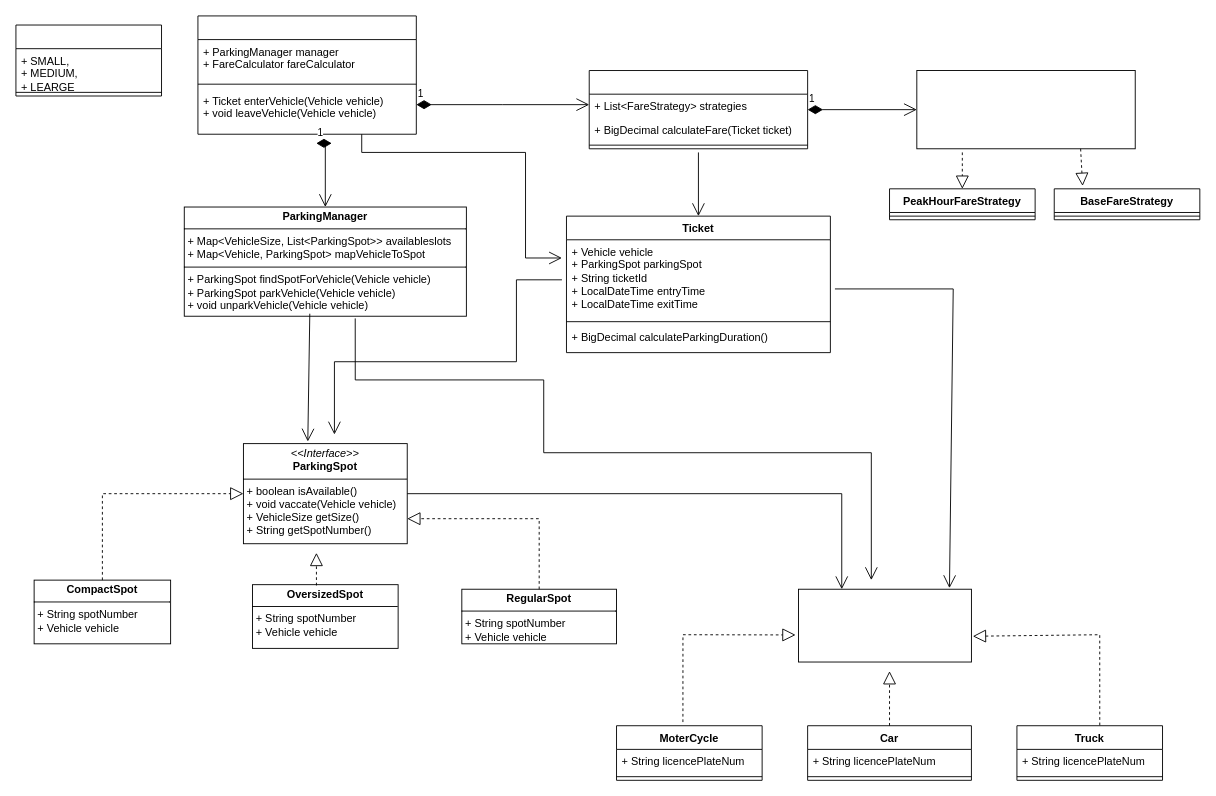
Some shapes in this 1216 by 796 pixel diagram are drawn without their labels. The box of each missing label's shape, as (x1, y1, x2, y2) in pixels:
<<Enum>> VehicleSize: (15, 24, 162, 96)
<<Interface>> FareStrategy BigDecimal calculateFare(ticket, inputFare): (916, 70, 1135, 149)
<<Interface>> Vehicle + getLicencePlateNumber: String + getSize: VehicleSize: (798, 588, 971, 662)
FareCalculator: (588, 70, 808, 149)
ParkingLot: (197, 15, 416, 134)
